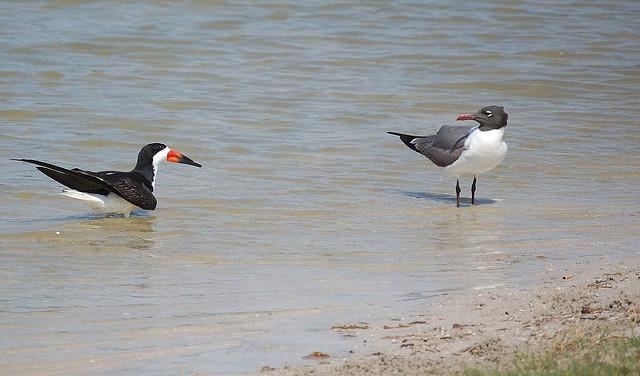bird: (5, 139, 204, 229), (378, 101, 517, 212)
